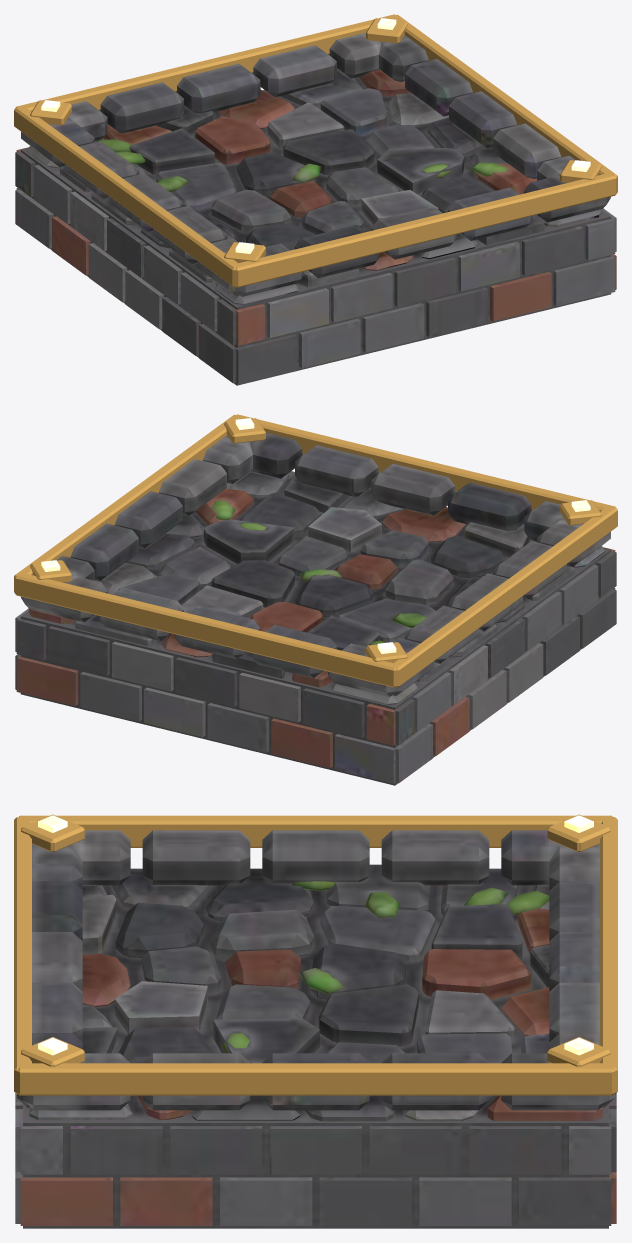
The model's file is plate_3_neutral.glb.
The picture shows the model from 3 angles, top to bottom: view 1: azimuth 30°, elevation 25°; view 2: azimuth 150°, elevation 25°; view 3: azimuth 270°, elevation 25°; orthographic projection. The views are drawn at different scales.
Parts seen in each view (by area): view 1: plate_3_neutral; view 2: plate_3_neutral; view 3: plate_3_neutral.
Boxes of the visible parts, box(x1,y1,x2,y2) form: plate_3_neutral: box(14, 14, 617, 385); plate_3_neutral: box(14, 414, 617, 785); plate_3_neutral: box(14, 814, 617, 1228).
Size of the model in its own units: 2.02 by 0.635 by 2.02.
Materials: 2 (1 with a texture image).
